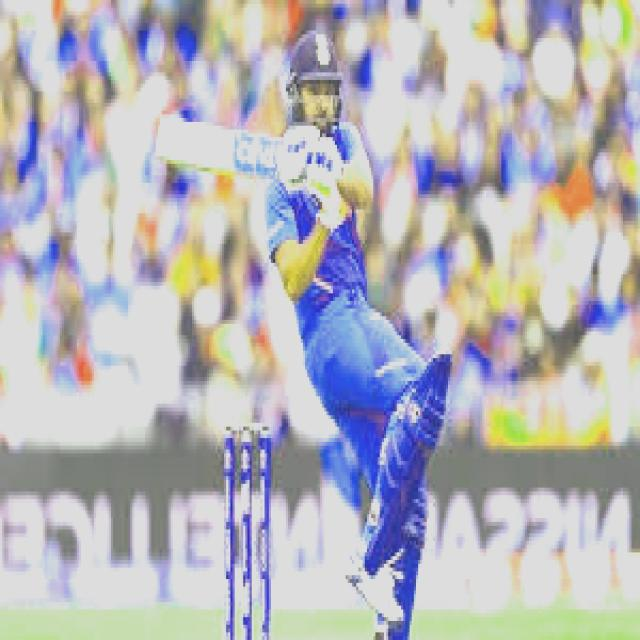toe: (153, 117, 176, 167)
